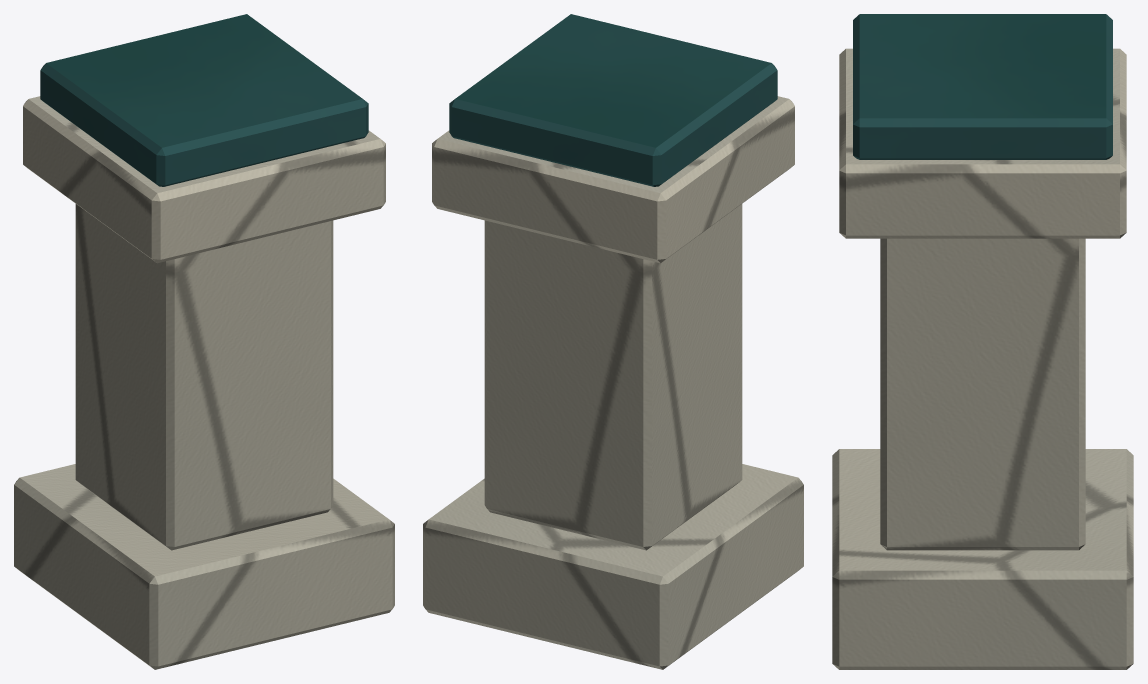
File: t06_rail_post_lod1.fbx
The picture shows the model from 3 angles, left to right: view 1: azimuth 30°, elevation 25°; view 2: azimuth 150°, elevation 25°; view 3: azimuth 270°, elevation 25°; orthographic projection. The views are drawn at different scales.
Visible parts, largest first — view 1: t06_rail_post.005; view 2: t06_rail_post.005; view 3: t06_rail_post.005.
Part boxes in pixels (<box>): t06_rail_post.005: <box>14,14,394,669</box>; t06_rail_post.005: <box>423,14,803,669</box>; t06_rail_post.005: <box>832,14,1133,669</box>.
Bounding box in the file's own units: 4400 × 4400 × 8750.
